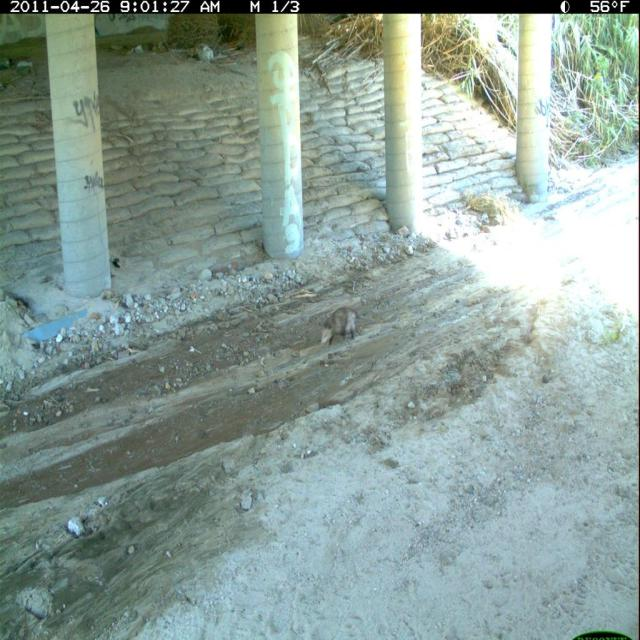opossum: (318, 304, 364, 352)
